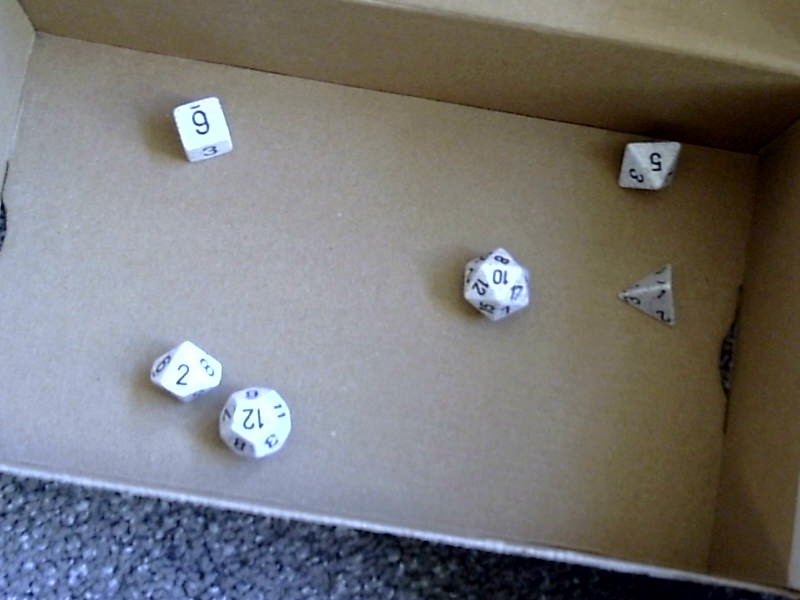d10 2: (145, 337, 224, 404)
d12 12: (218, 385, 292, 460)
d20 10: (459, 241, 534, 325)
d4 1: (615, 260, 678, 331)
d6 6: (165, 90, 238, 167)
d8 5: (612, 132, 685, 194)
